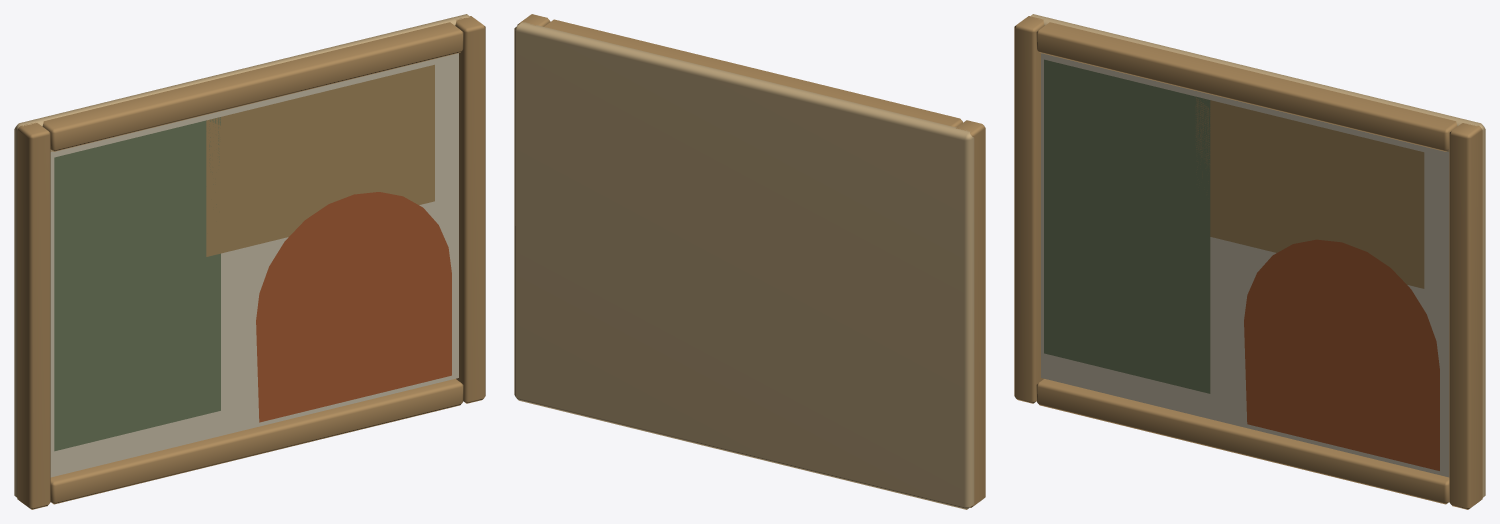
The model's file is abstract_frame_01.glb.
The picture shows the model from 3 angles, left to right: view 1: azimuth 30°, elevation 25°; view 2: azimuth 150°, elevation 25°; view 3: azimuth 330°, elevation 25°; orthographic projection.
Parts seen in each view (by area): view 1: Body; view 2: Body; view 3: Body.
Boxes of the visible parts, x1,y1,x2,y2 form: Body: (14,14,485,509); Body: (514,14,985,509); Body: (1014,14,1485,509).
Bounding box in the file's own units: 0.7 × 0.55 × 0.05.
